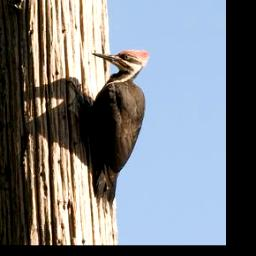Woodpecker: (68, 49, 151, 213)
